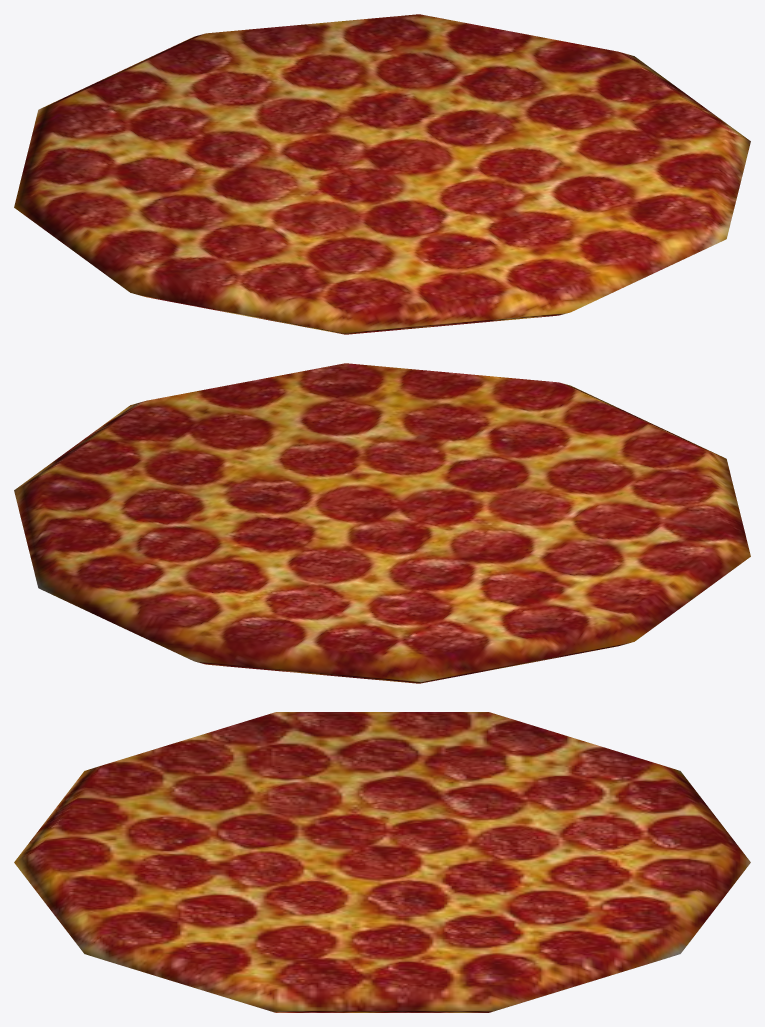
File: Pizza_02.glb
3 views of the same model, one above another, from view 1: azimuth 30°, elevation 25°; view 2: azimuth 150°, elevation 25°; view 3: azimuth 270°, elevation 25° (orthographic). The views are drawn at different scales.
Parts seen in each view (by area): view 1: Pizza_02; view 2: Pizza_02; view 3: Pizza_02.
Boxes of the visible parts, <box> form: Pizza_02: <box>14,14,750,334</box>; Pizza_02: <box>14,363,750,683</box>; Pizza_02: <box>14,712,750,1012</box>.
Size of the model in its own units: 0.6676 by 0.025 by 0.702.
1 material, 1 textured.
